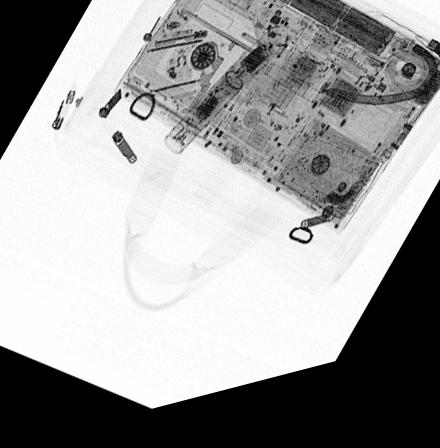Baton: (163, 40, 289, 161)
